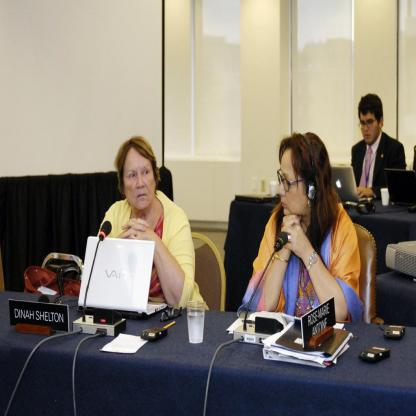board: (78, 236, 166, 317), (331, 166, 373, 206), (382, 169, 416, 206)
